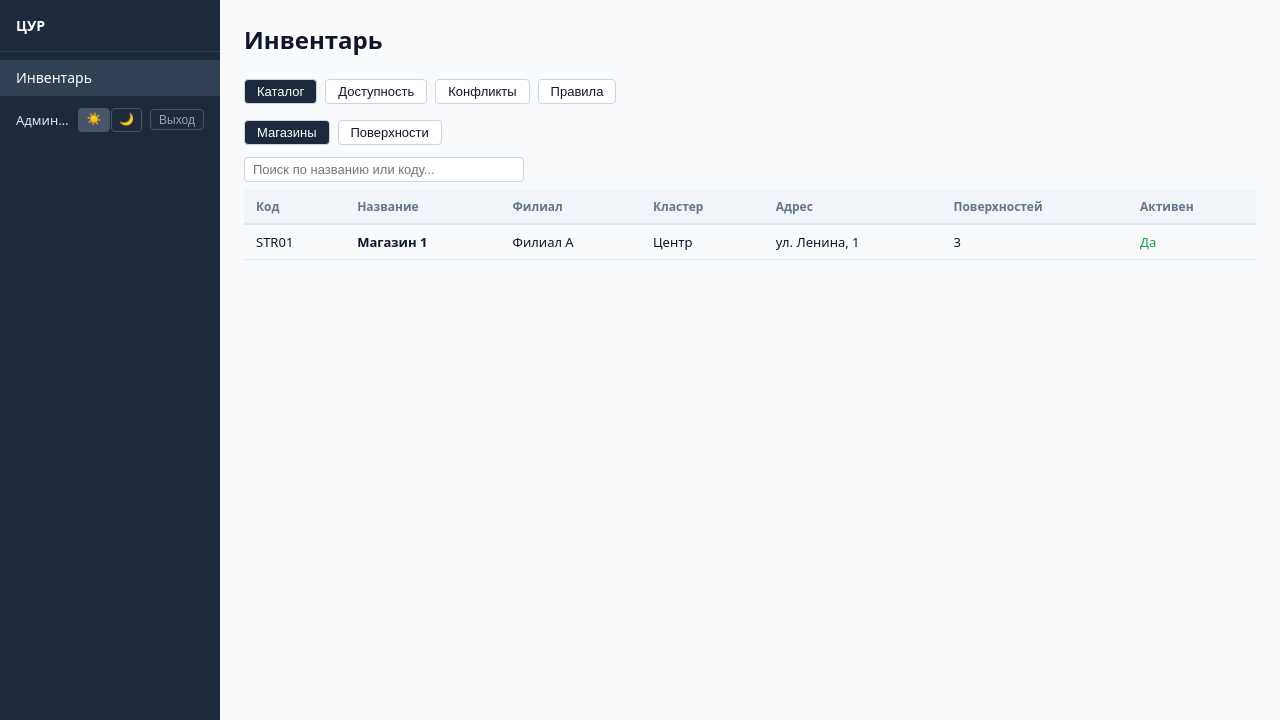
it: InventoryPage — S-081 tabs › switches to rules tab and shows create button
This screenshot has width=1280, height=720.
Click the button "Правила" at (577, 92), box [538,79,616,104]
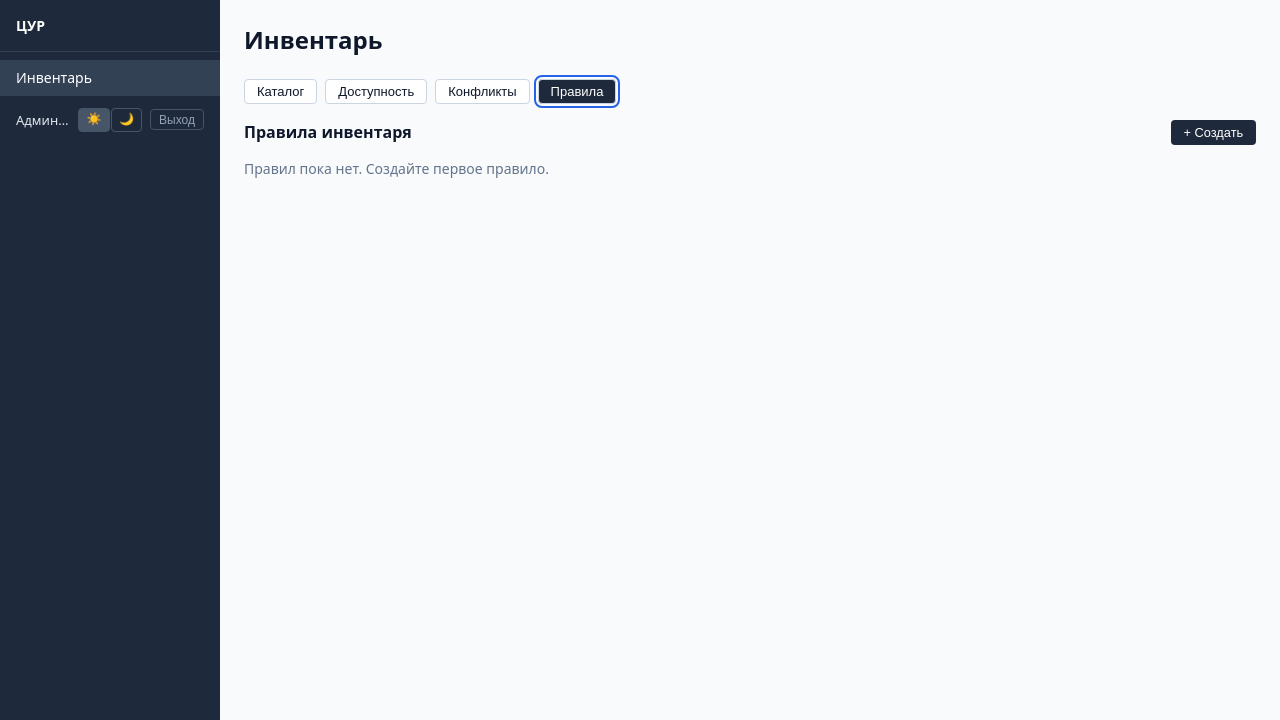
Expected: the text "Правил пока нет. Создайте первое правило." is shown, [244,159,549,178]
Expected: the button "+ Создать" is shown, [1171,120,1256,145]
